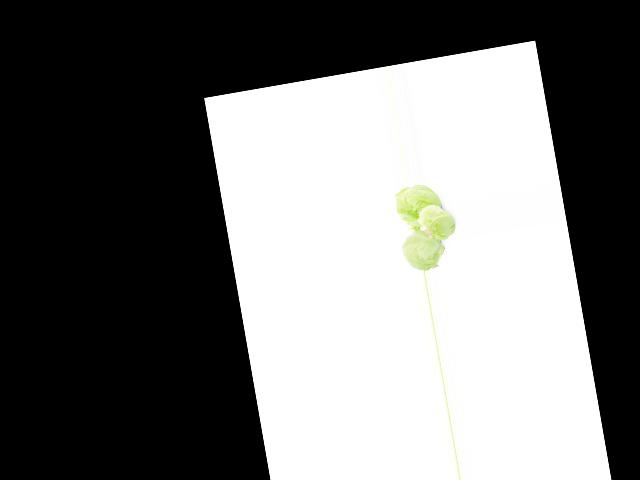lettuce: (395, 184, 440, 226)
